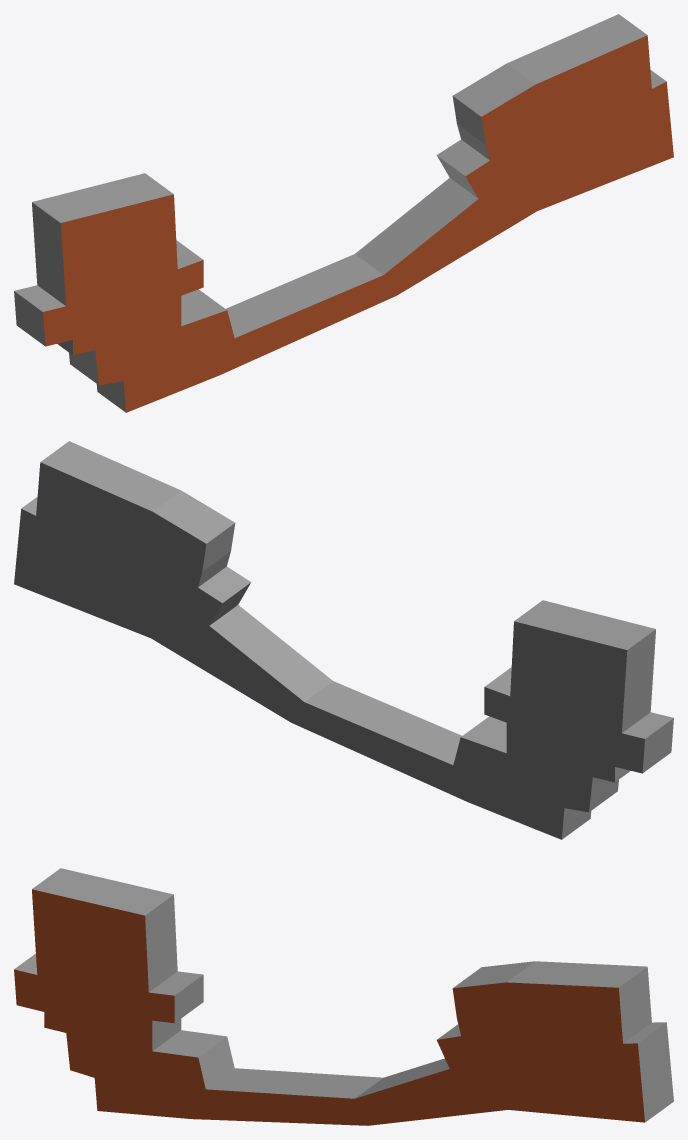
File: construction_7120_assumed_A_Casa_h6m.obj
3 renders of one model, top to bottom at view 1: azimuth 30°, elevation 25°; view 2: azimuth 150°, elevation 25°; view 3: azimuth 330°, elevation 25°, orthographic.
Parts seen in each view (by area): view 1: construction_7120_assumed_A_Casa; view 2: construction_7120_assumed_A_Casa; view 3: construction_7120_assumed_A_Casa.
Boxes of the visible parts, x1,y1,x2,y2 form: construction_7120_assumed_A_Casa: (14, 14, 673, 412); construction_7120_assumed_A_Casa: (14, 441, 673, 839); construction_7120_assumed_A_Casa: (14, 868, 673, 1125).
Bounding box in the file's own units: 75.72 × 28.72 × 6.
